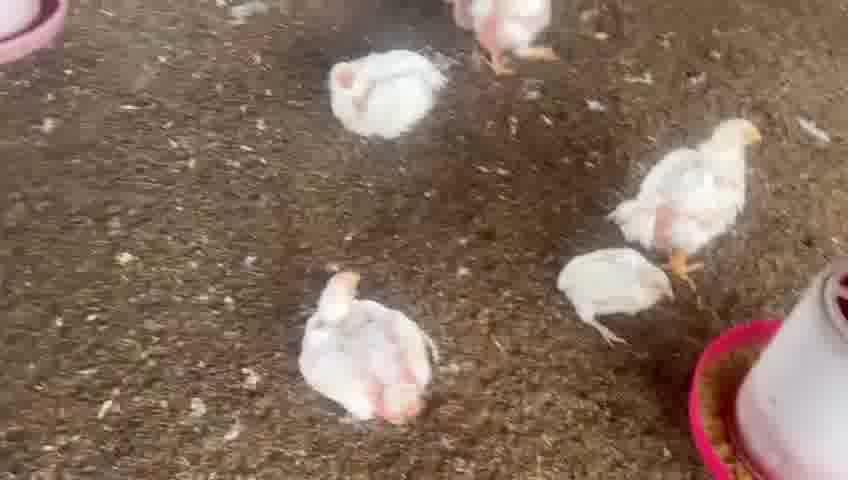AbNormal: (301, 271, 435, 429), (558, 247, 675, 347), (328, 48, 444, 141)
Normal: (633, 119, 762, 282), (447, 1, 564, 79)
